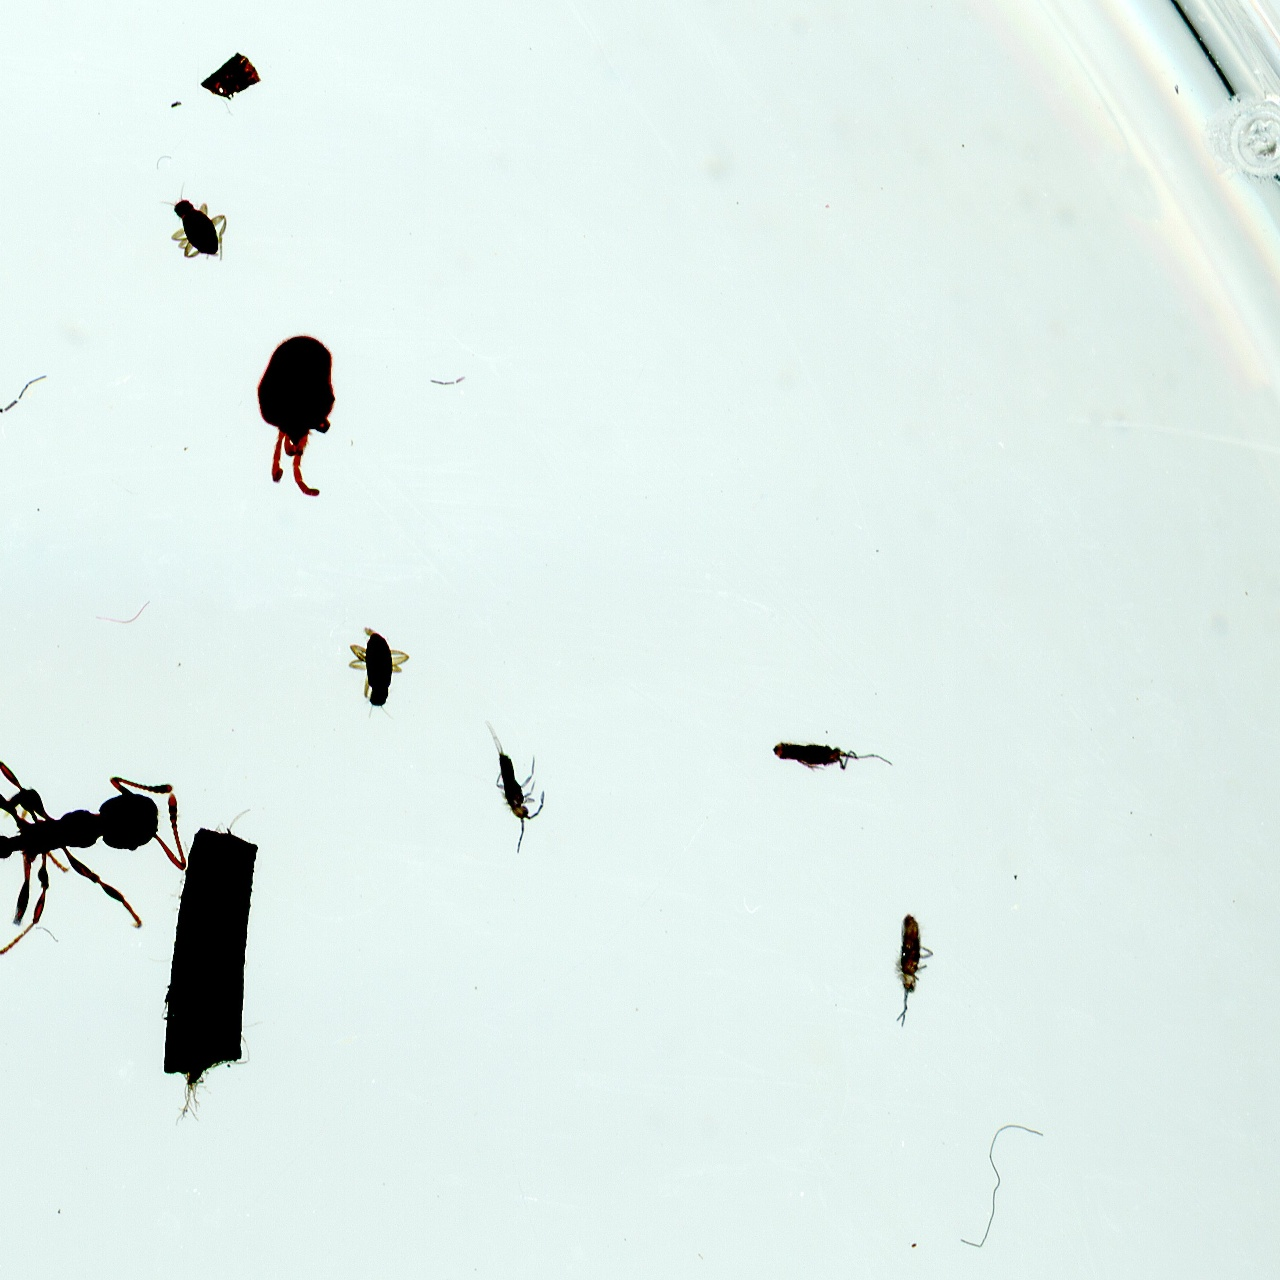arthropod: (0, 681, 212, 983), (248, 326, 345, 499), (141, 165, 252, 286), (475, 715, 553, 860), (341, 622, 415, 724), (756, 729, 900, 778), (890, 911, 937, 1028), (0, 356, 54, 435)
